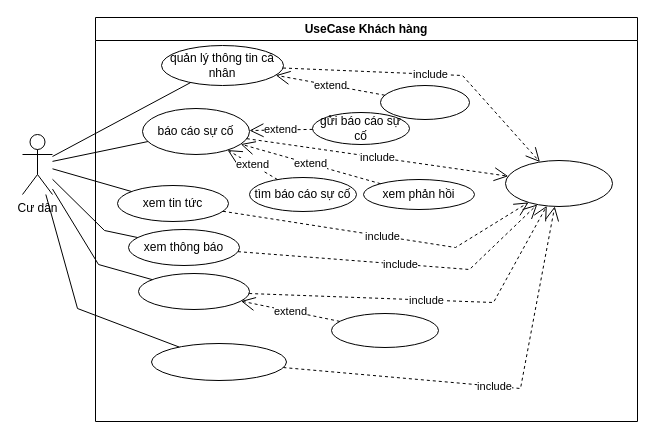
Some shapes in this 655 by 439 pixel diagram are drawn without their labels. The shapes that lost their labels are listed below. From the top down, each one's box as (x1, y1, x2, y2) in pixels, then its label:
(380, 84, 470, 120): cập nhật thông tin cá nhân
(504, 160, 612, 206): Đăng nhập
(138, 272, 250, 310): xem hợp đồng
(330, 312, 438, 348): tìm hợp đồng
(150, 342, 286, 380): Đăng xuất
